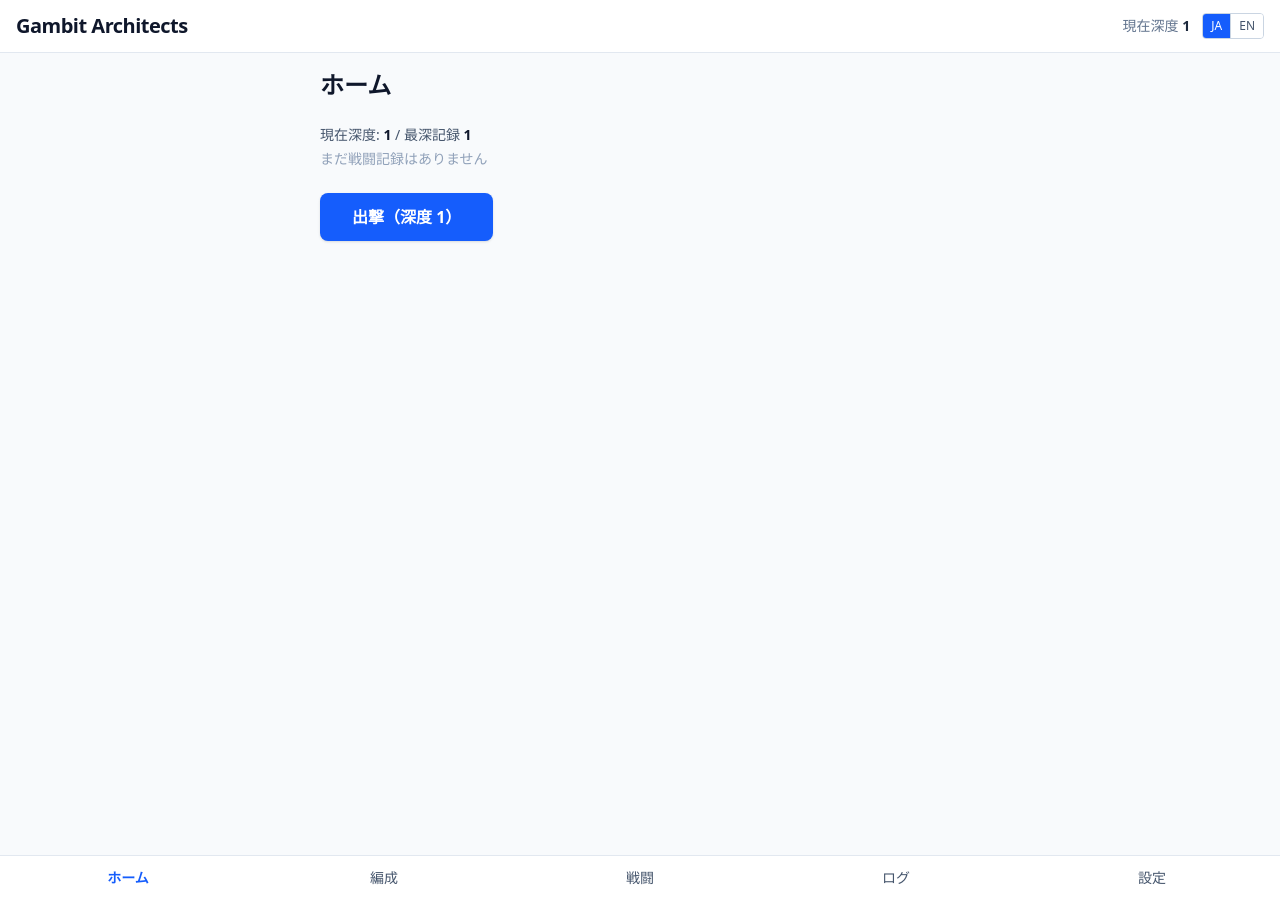
Test: E2E：ログ画面が戦闘後に記録される › 戦闘 → ログタブで結果が見える
Click the button "出撃（深度 1）" at (407, 217), box [320,193,493,241]
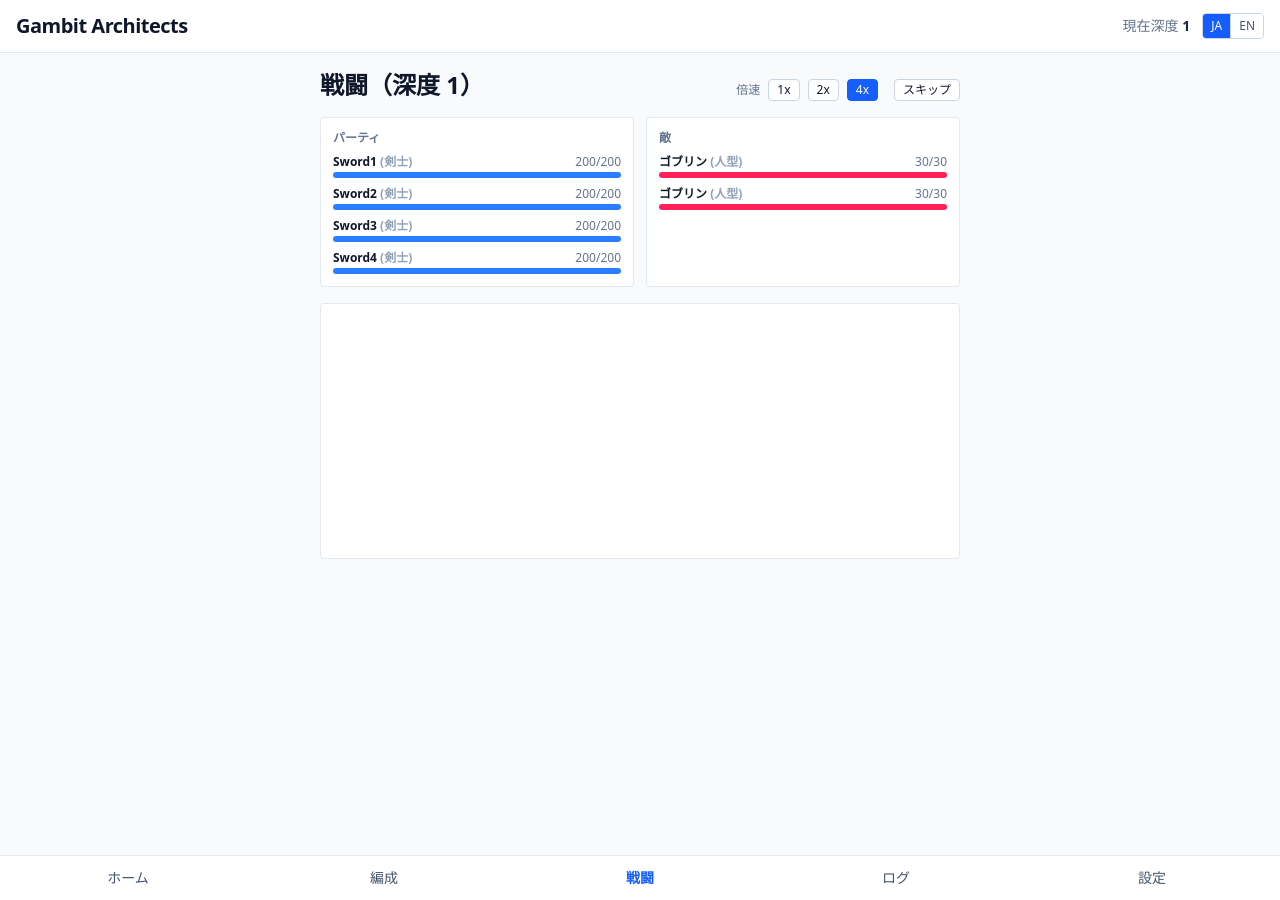
Click the button "スキップ" at (927, 90), box [894,79,960,101]
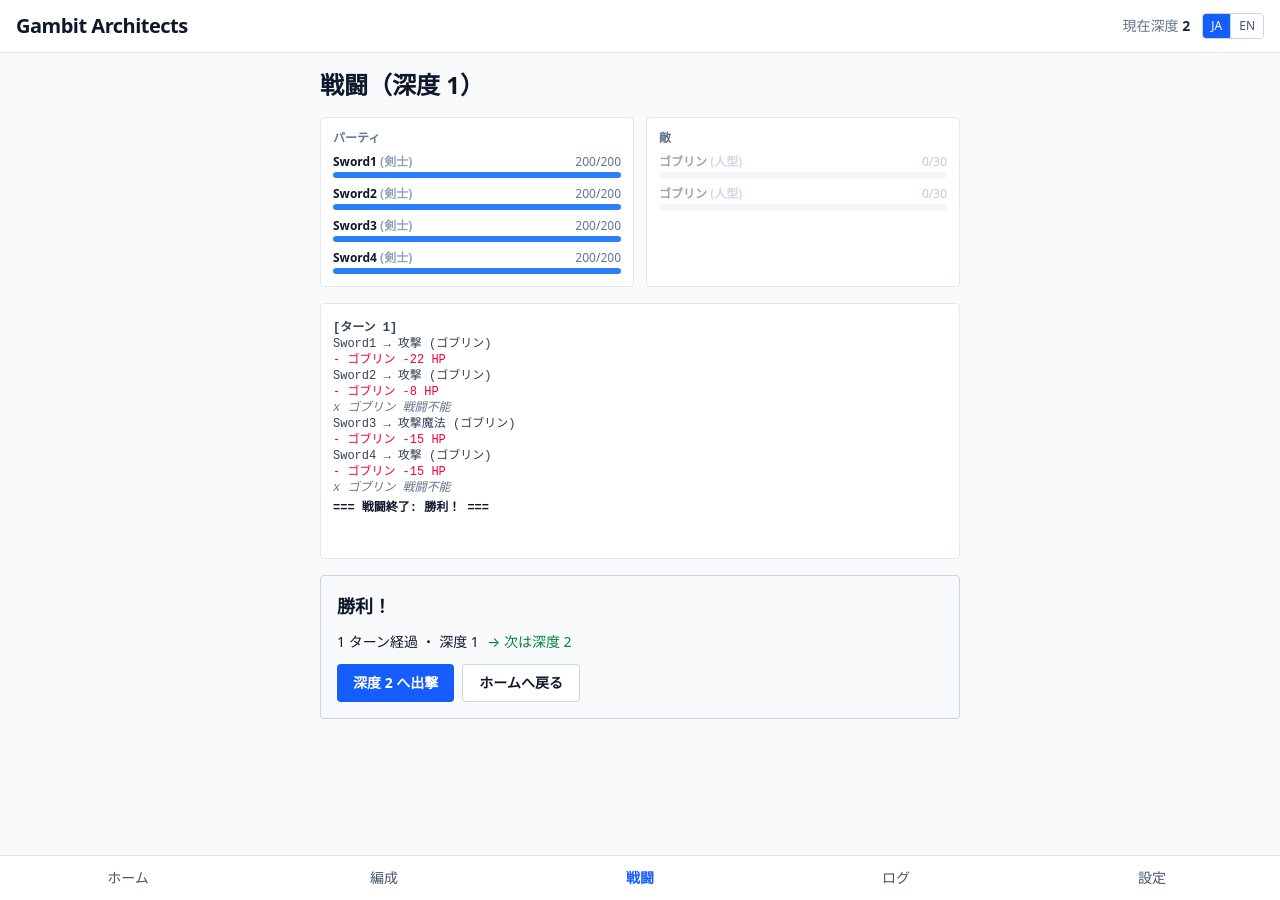
Click the button "ホームへ戻る" at (521, 683), box [462,664,580,702]
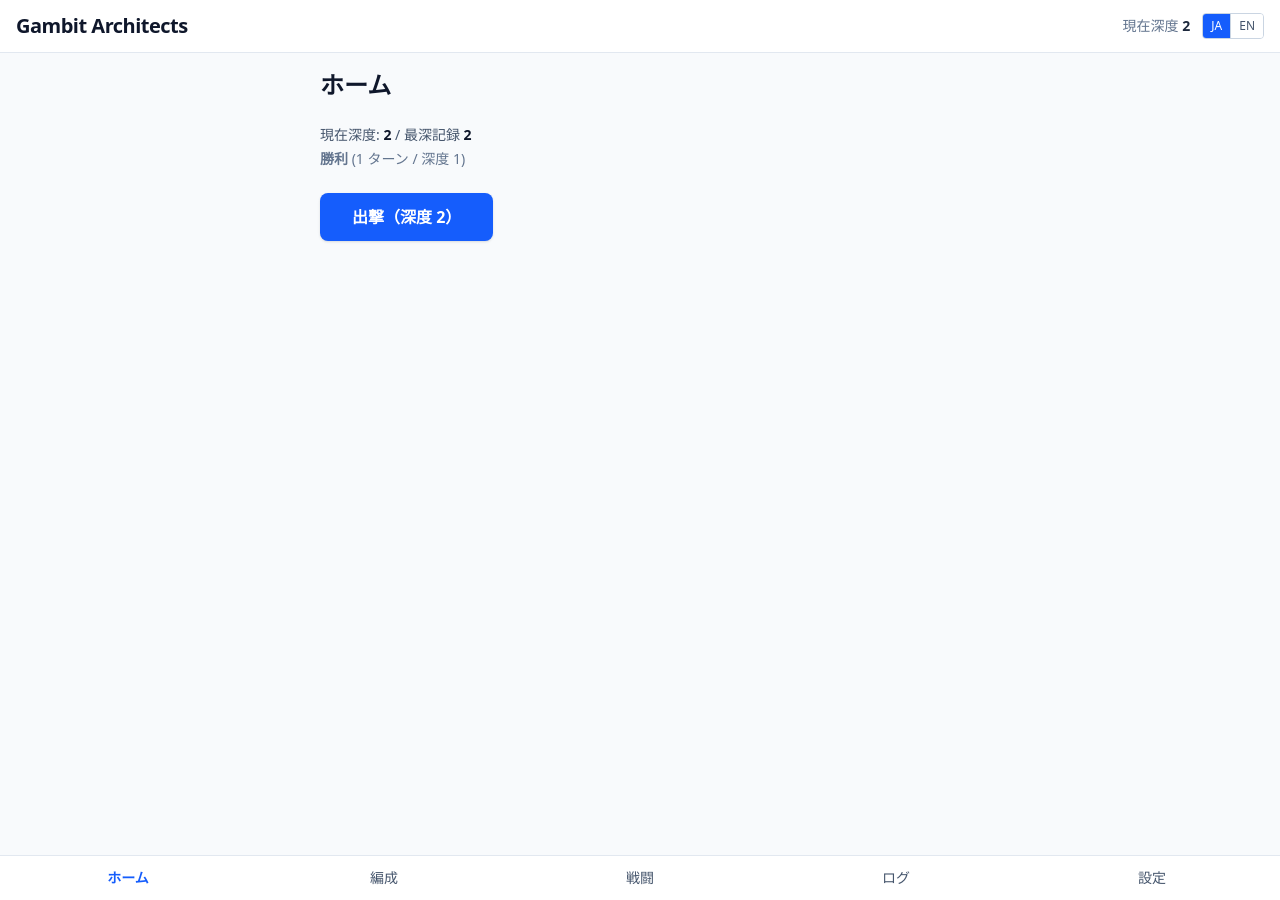
Click the link "ログ" at (896, 878), box [882,868,910,887]
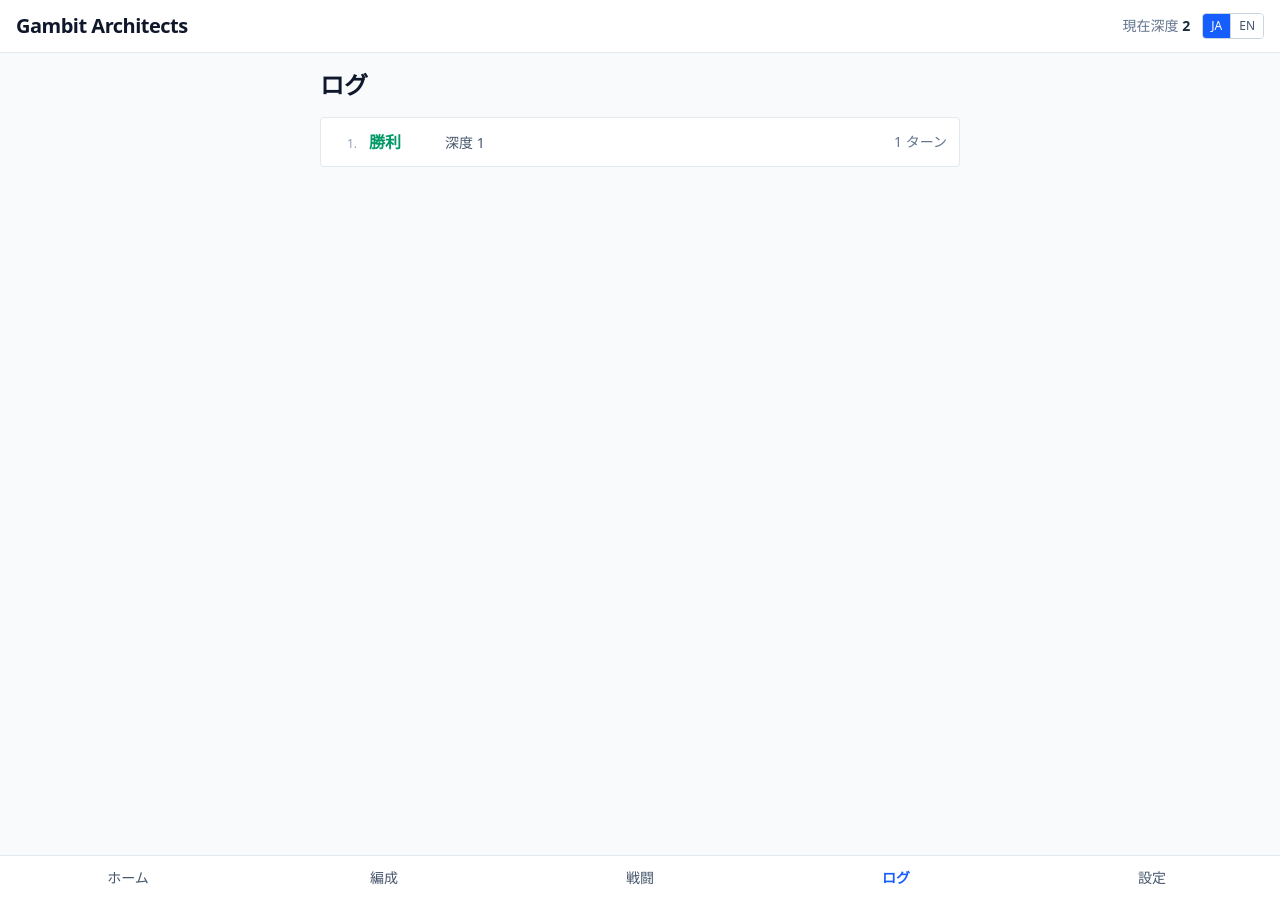
Result: the heading "ログ" is shown at [320,68,368,101]
Result: the number of list items is 1 at [320,117,960,167]
Result: the list item shows "勝利" at [369,131,401,153]
